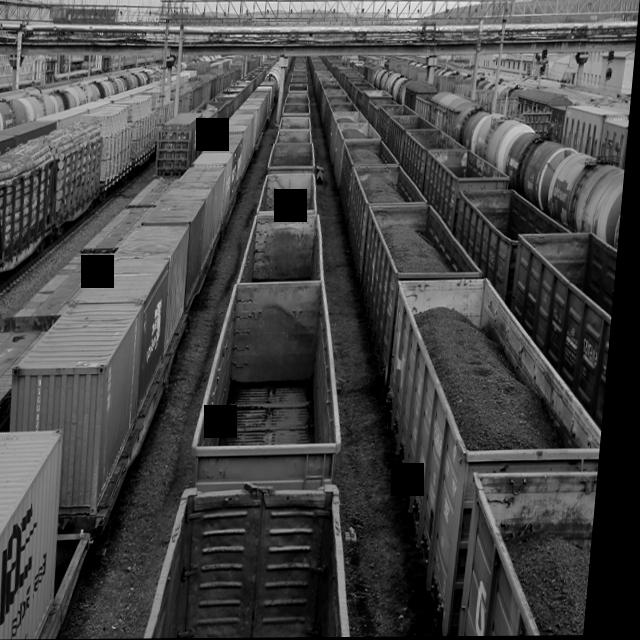boxcar: (428, 90, 477, 144)
cargo: (0, 139, 60, 262), (36, 117, 108, 208), (88, 103, 137, 177)
container: (2, 301, 155, 527), (0, 424, 83, 640), (79, 255, 177, 399), (120, 223, 196, 337), (142, 198, 211, 290), (159, 110, 207, 178)
flatcar: (0, 315, 60, 433), (19, 250, 119, 319), (0, 221, 60, 300), (84, 206, 159, 253), (58, 185, 105, 240), (128, 175, 182, 208)
gondola: (374, 272, 621, 638), (146, 477, 383, 639), (194, 280, 364, 487), (462, 460, 608, 637), (358, 204, 495, 385), (507, 228, 624, 420), (453, 188, 582, 296), (347, 165, 435, 278), (424, 147, 517, 236), (240, 213, 335, 286), (340, 140, 405, 228), (403, 128, 471, 191), (335, 123, 386, 192), (259, 171, 324, 216), (269, 143, 320, 176)
tank: (548, 150, 629, 245), (503, 126, 581, 208), (472, 108, 536, 181), (0, 95, 35, 134), (22, 90, 60, 122)
